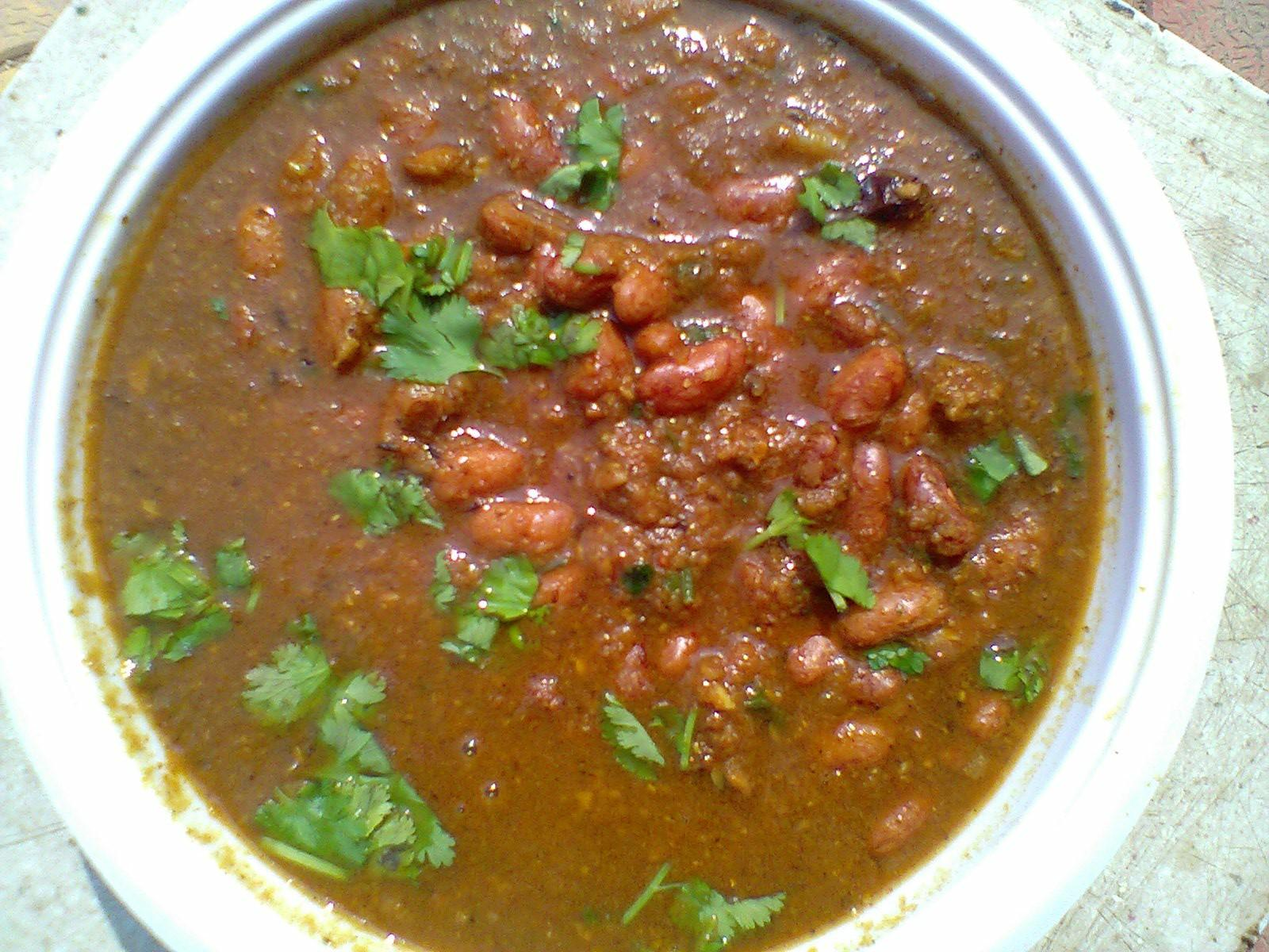RajmaCurry: (72, 0, 1108, 952)
